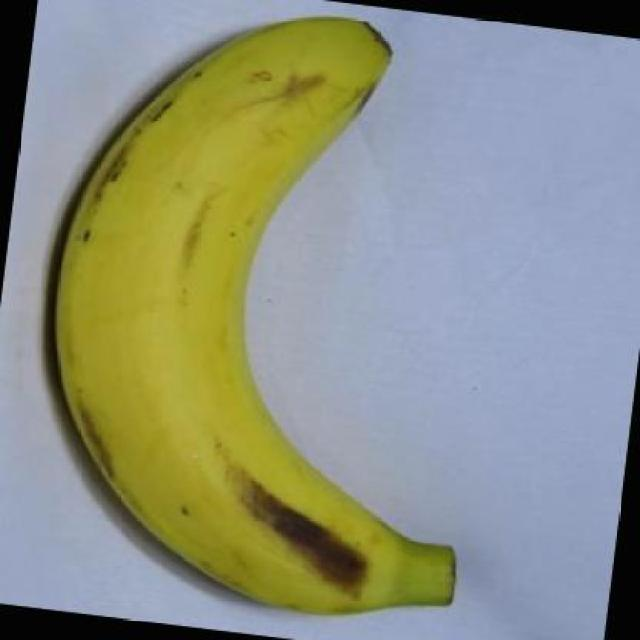ripe: (23, 0, 501, 627)
